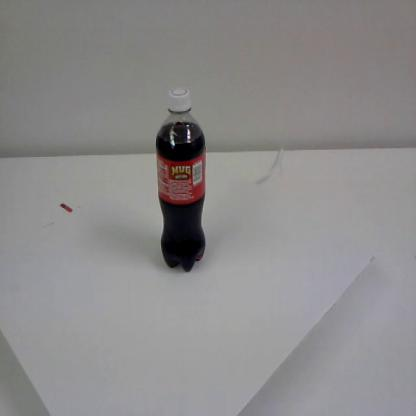bottle: (152, 86, 206, 273)
